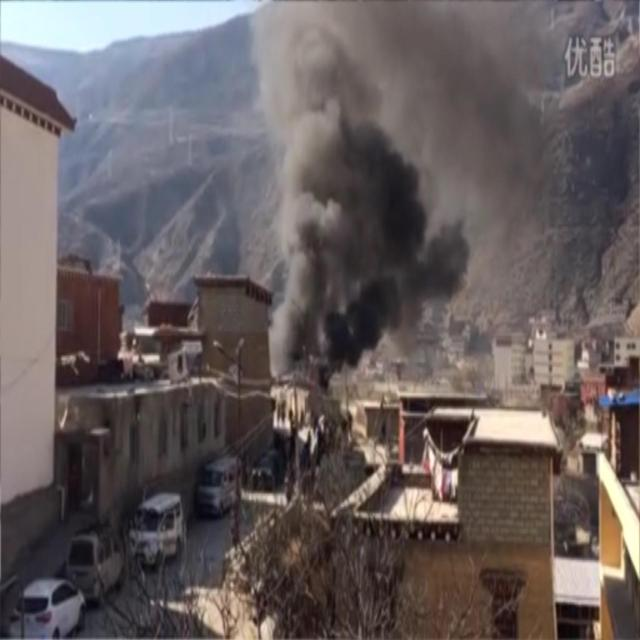smoke: (260, 1, 530, 358)
